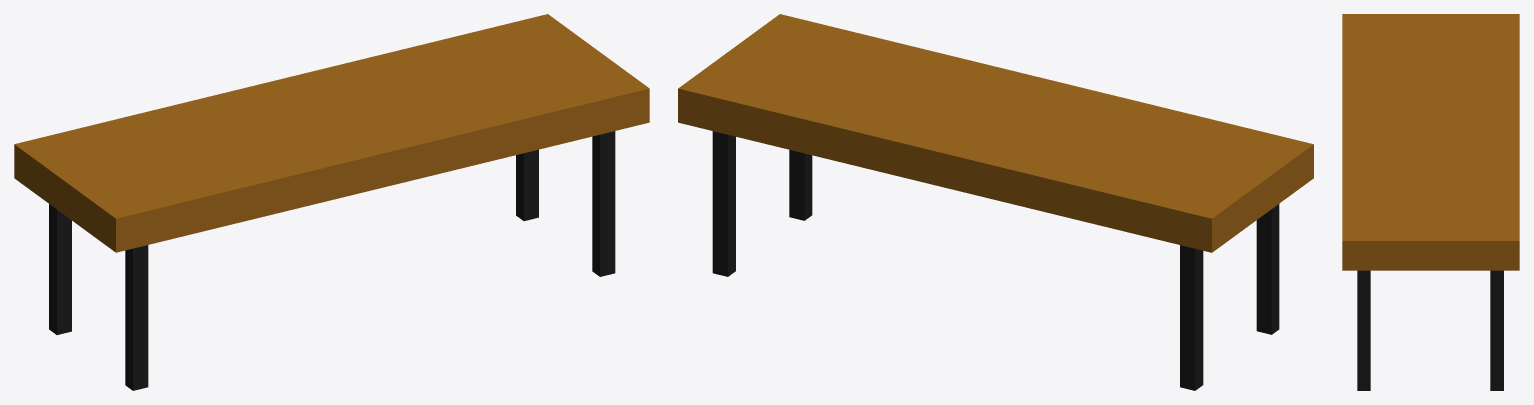
File: table.fbx
The picture shows the model from 3 angles, left to right: view 1: azimuth 30°, elevation 25°; view 2: azimuth 150°, elevation 25°; view 3: azimuth 270°, elevation 25°; orthographic projection. The views are drawn at different scales.
Visible parts, largest first — view 1: Cube; view 2: Cube; view 3: Cube.
Part boxes in pixels (<box>): Cube: <box>14,14,649,390</box>; Cube: <box>678,14,1313,390</box>; Cube: <box>1342,14,1519,390</box>.
Size of the model in its own units: 246 by 81.41 by 81.25.
